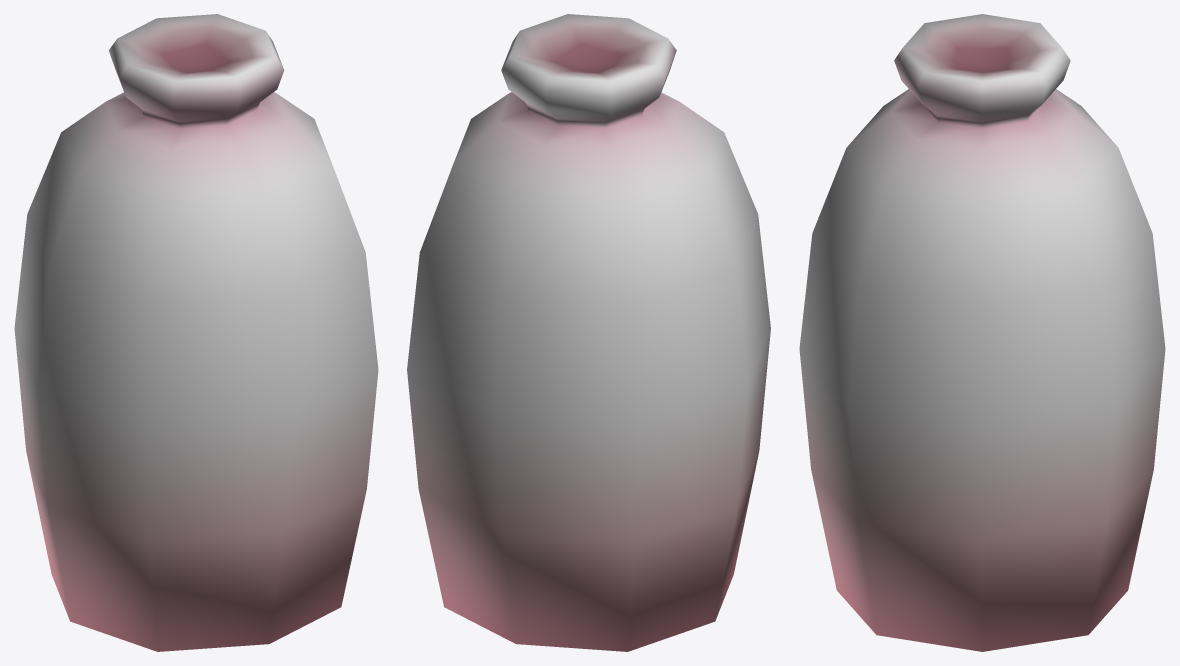
File: Pot_01.fbx
The picture shows the model from 3 angles, left to right: view 1: azimuth 30°, elevation 25°; view 2: azimuth 150°, elevation 25°; view 3: azimuth 270°, elevation 25°; orthographic projection.
Parts seen in each view (by area): view 1: Cube.031; view 2: Cube.031; view 3: Cube.031.
Boxes of the visible parts, box(x1,y1,x2,y2) form: Cube.031: box(14, 14, 378, 651); Cube.031: box(407, 14, 770, 651); Cube.031: box(799, 14, 1165, 651).
Bounding box in the file's own units: 51.34 × 84 × 51.34.
